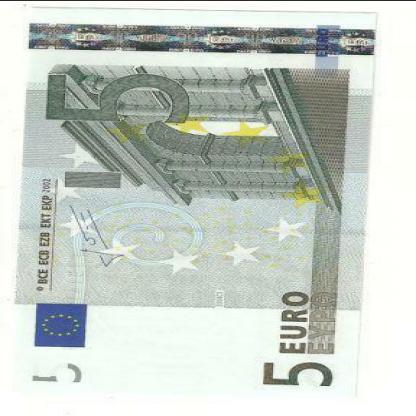euro_banknote: (4, 25, 388, 382)
